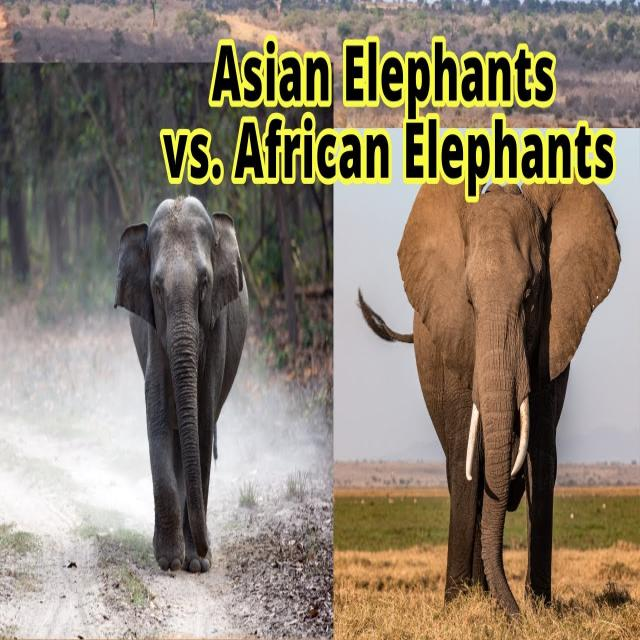Elephant: (380, 173, 612, 603), (110, 189, 254, 576)
